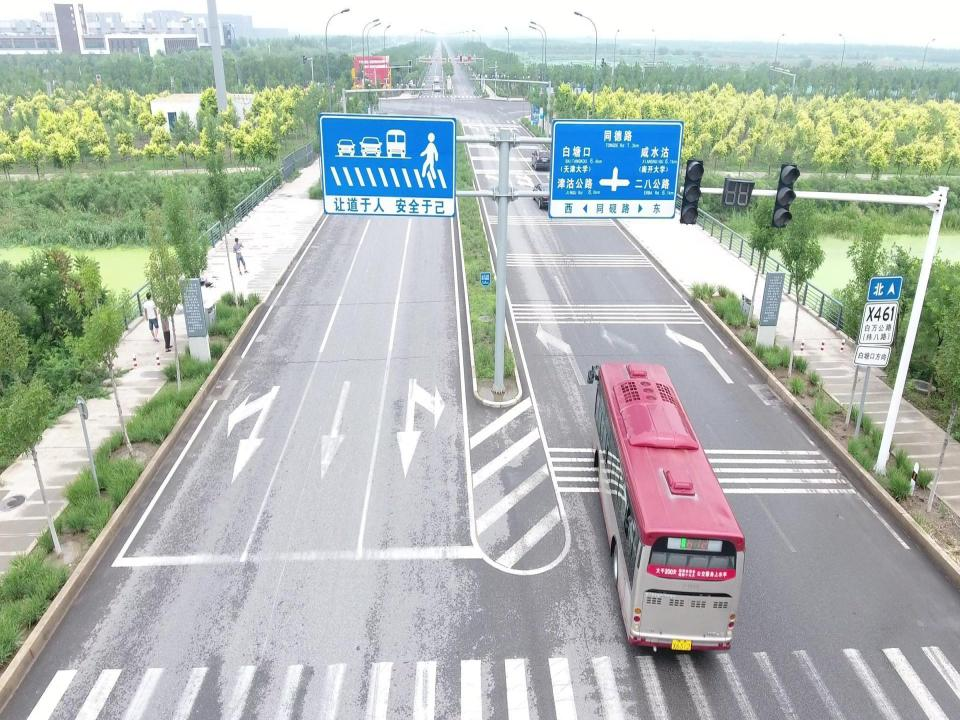bus: (587, 365, 745, 658)
car: (534, 183, 560, 207), (532, 149, 553, 170), (434, 83, 440, 91), (434, 75, 440, 83)
